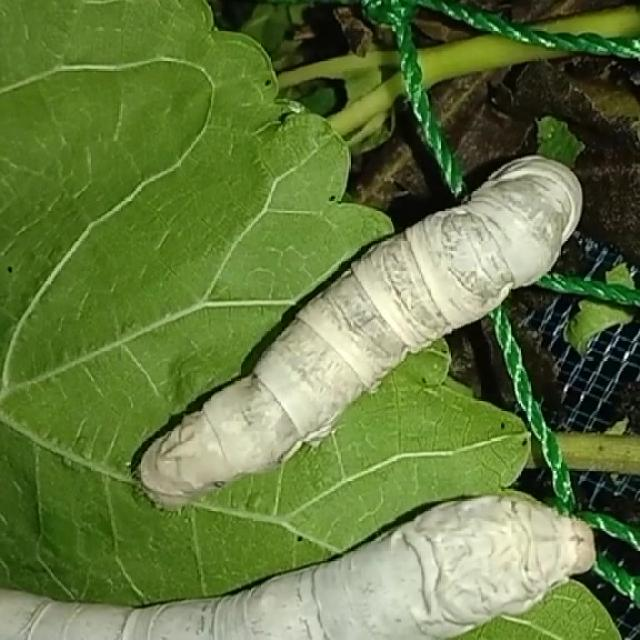Grasserie: (108, 107, 640, 515)
